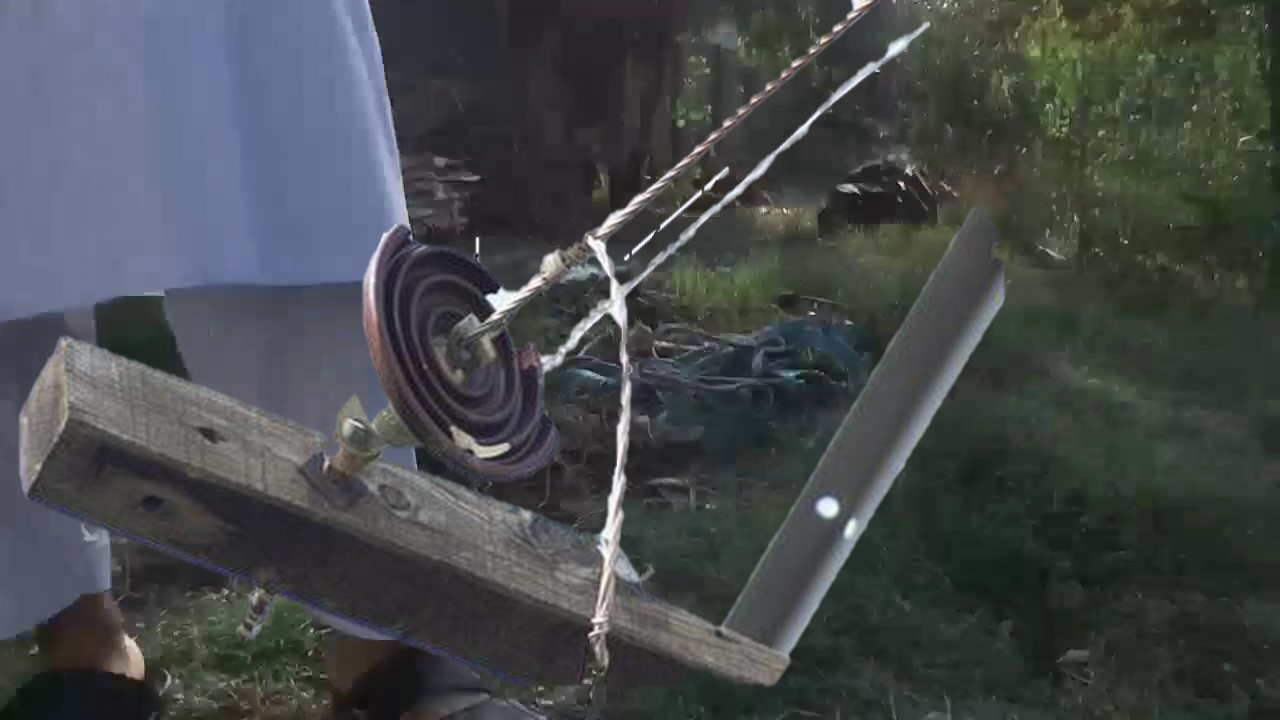defect_disc: (356, 213, 569, 488)
